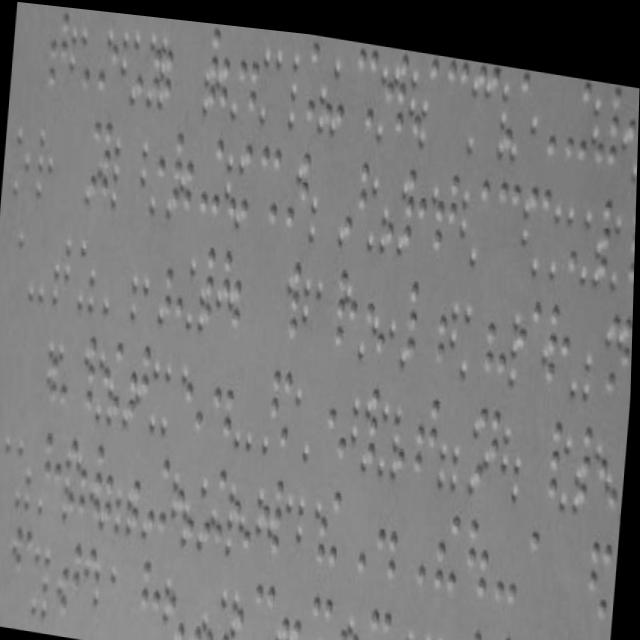braiile: (484, 274, 514, 367), (435, 496, 465, 586), (546, 286, 577, 373), (535, 402, 566, 488), (254, 135, 284, 223), (496, 511, 526, 598), (318, 476, 347, 564), (413, 381, 443, 466), (375, 488, 404, 573), (423, 270, 452, 355), (395, 264, 424, 349), (432, 159, 461, 244), (595, 68, 623, 155), (564, 62, 592, 148), (535, 58, 563, 144), (402, 156, 431, 239), (406, 492, 434, 577), (147, 447, 175, 531), (342, 149, 370, 233), (325, 373, 354, 454), (211, 351, 239, 434), (183, 347, 211, 430), (293, 32, 321, 115), (60, 535, 87, 620), (352, 35, 379, 120), (234, 26, 261, 111), (347, 486, 374, 567), (164, 234, 191, 314), (200, 127, 226, 210), (45, 5, 71, 88), (251, 573, 280, 640), (618, 185, 637, 269), (367, 593, 398, 640), (624, 73, 640, 157), (488, 616, 517, 640), (577, 635, 606, 640)
